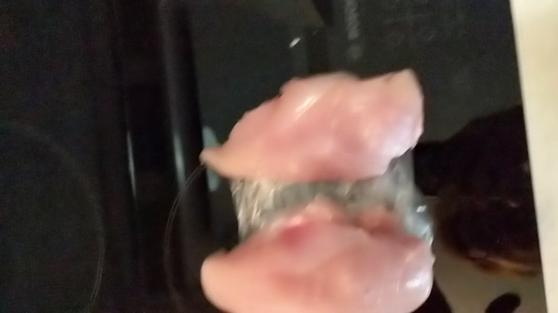white_bread: (199, 193, 434, 312), (196, 68, 426, 183)
